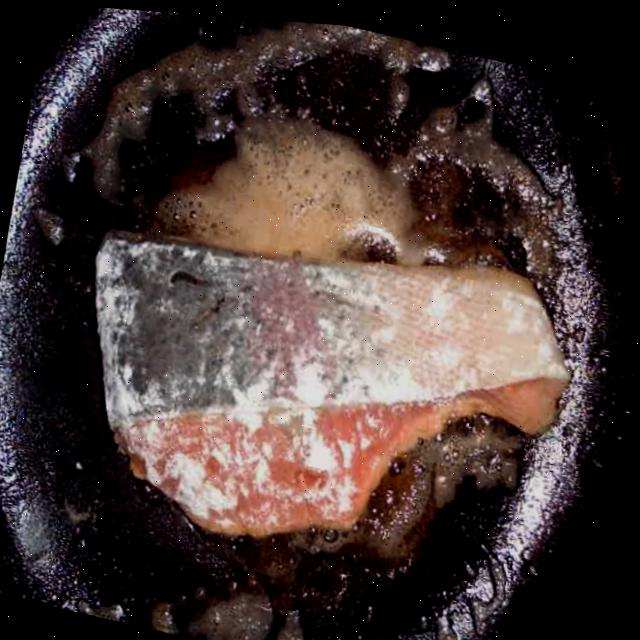熟制海鲜: (41, 143, 590, 597)
